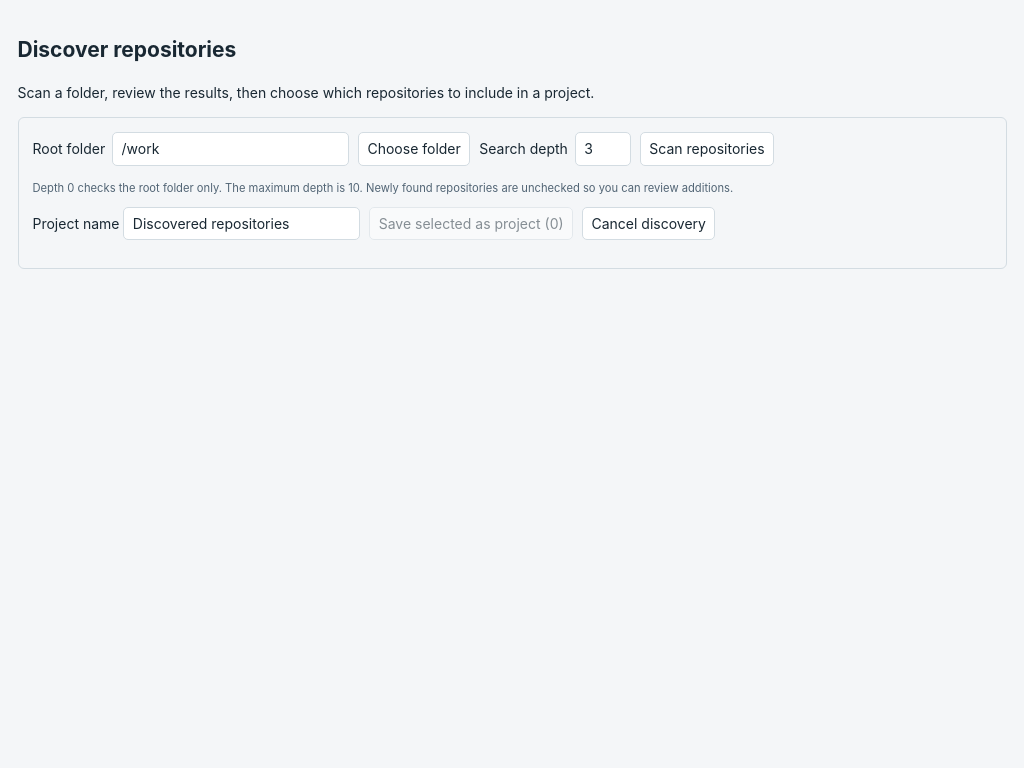
Discovery renderer › retains checked results on rescan and proposes new repositories unchecked
Click the button "Scan repositories": {"x": 707, "y": 149} [640, 132, 774, 166]
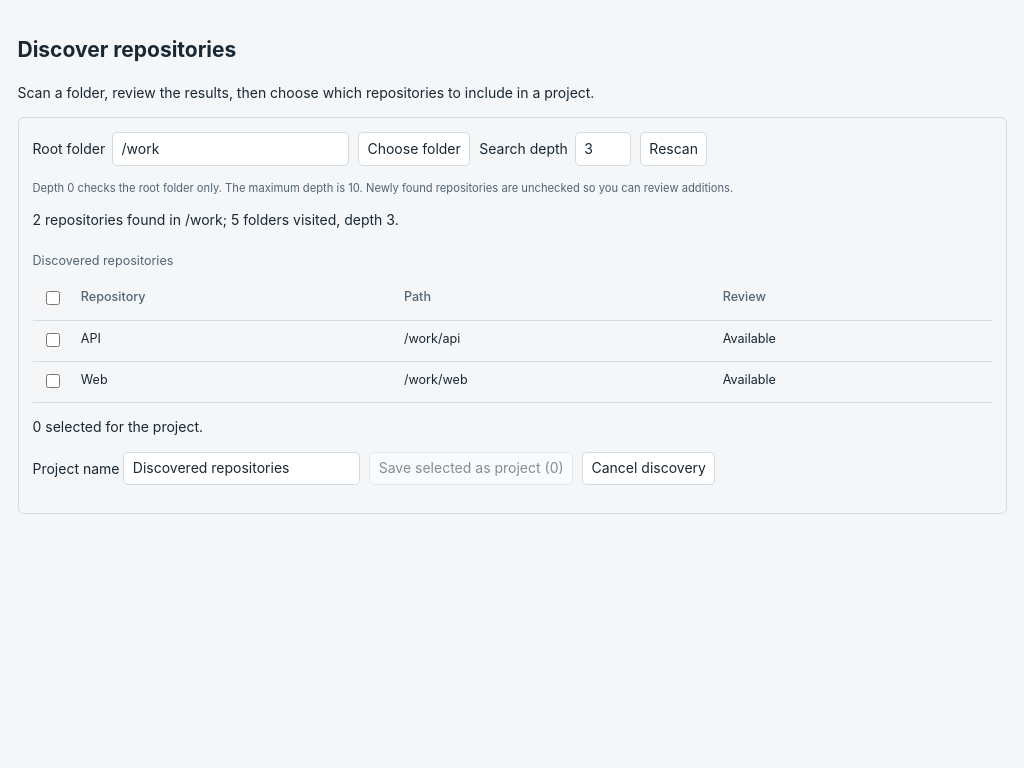
Check: the checkbox named "Include API" is shown
Click the checkbox named "Include API": {"x": 53, "y": 340} [46, 333, 60, 347]
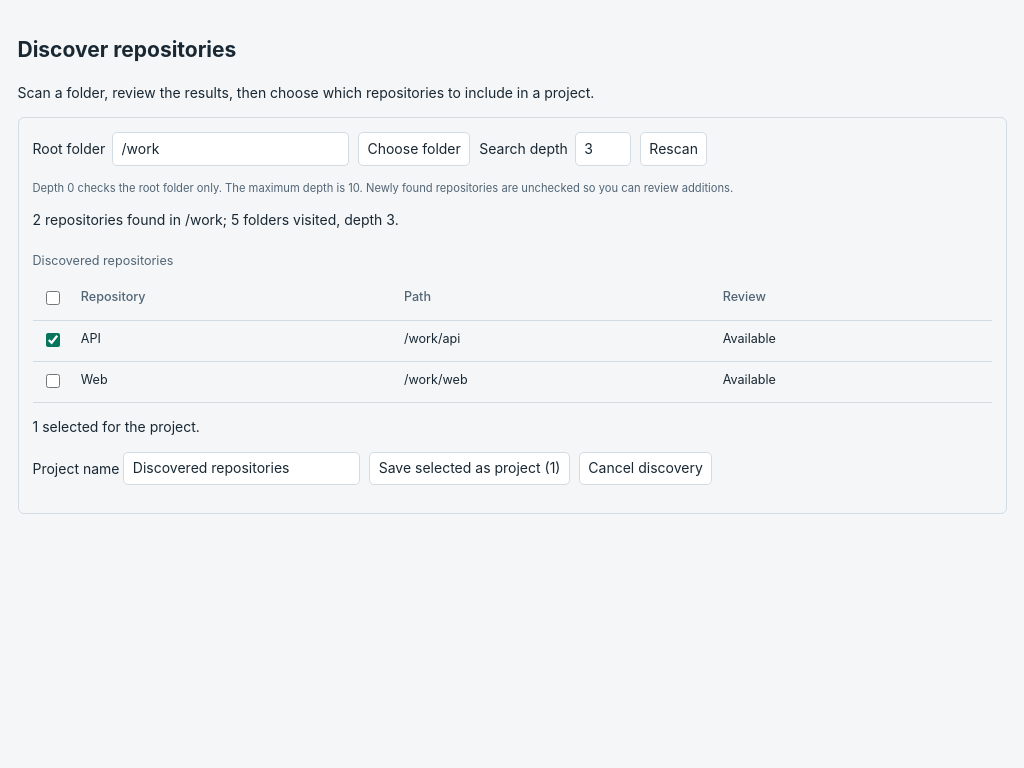
Click the button "Rescan": {"x": 674, "y": 149} [640, 132, 707, 166]
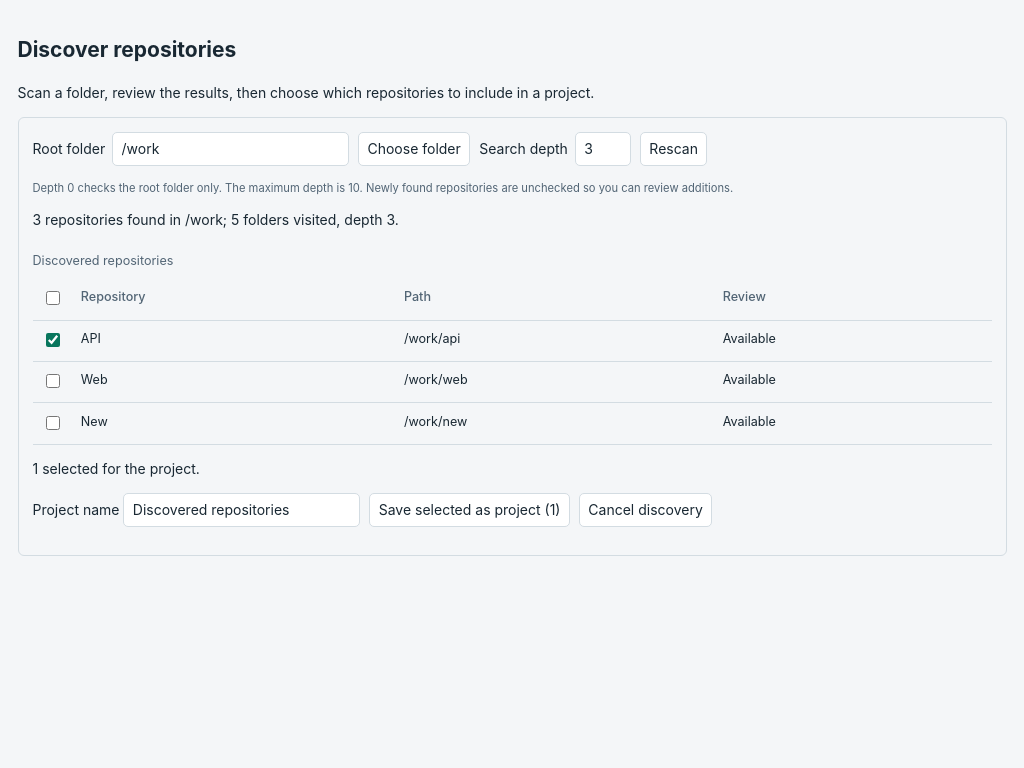
Check: the checkbox named "Include API" is checked, box [46, 333, 60, 347]
Check: the checkbox named "Include Web" is not checked, box [46, 374, 60, 388]
Check: the checkbox named "Include New" is not checked, box [46, 416, 60, 430]
Click the checkbox named "Select all discovered repositories": {"x": 53, "y": 298} [46, 291, 60, 305]
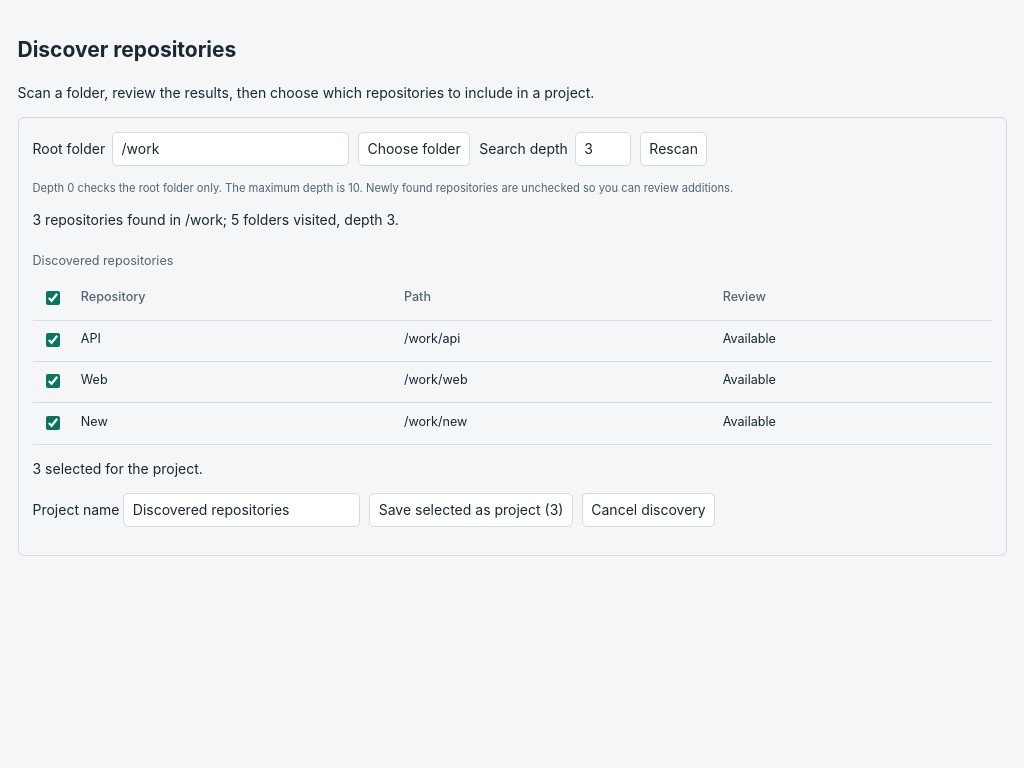
Check: the checkbox named "Include New" is checked, box [46, 416, 60, 430]
